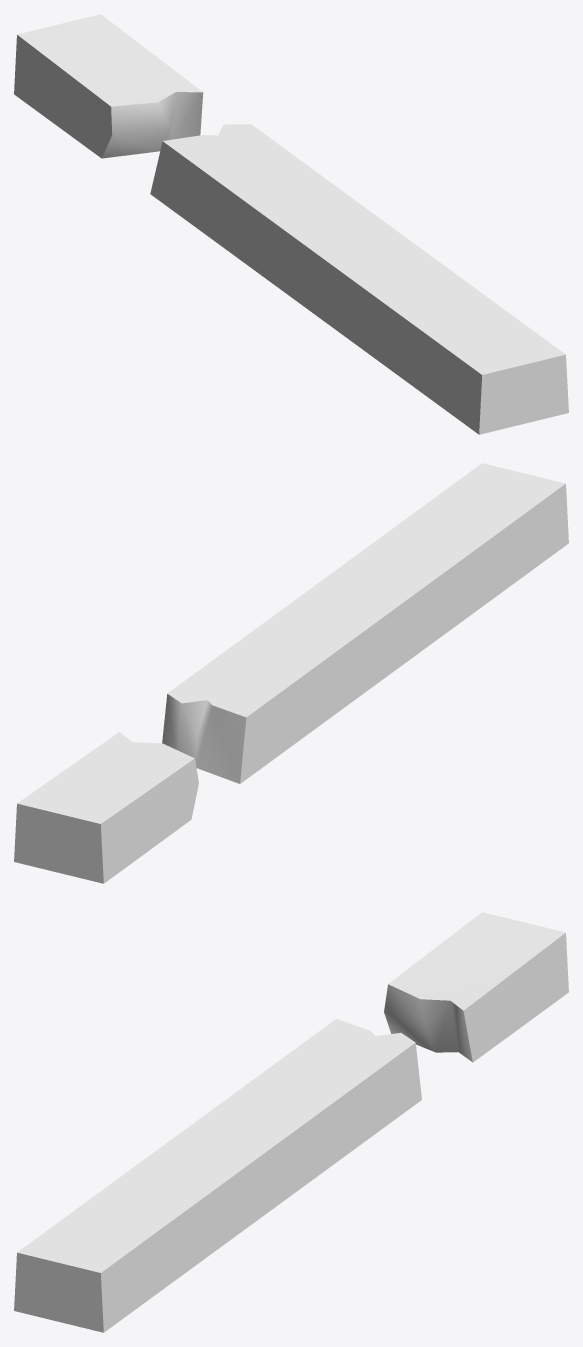
File: map_1002_muban_02.FBX
3 views of the same model, one above another, from view 1: azimuth 30°, elevation 25°; view 2: azimuth 150°, elevation 25°; view 3: azimuth 330°, elevation 25° (orthographic).
Parts seen in each view (by area): view 1: map_1002_muban_02; view 2: map_1002_muban_02; view 3: map_1002_muban_02.
Part boxes in pixels (left/top/right/bottom): map_1002_muban_02: left=14, top=14, right=568, bottom=434; map_1002_muban_02: left=14, top=463, right=568, bottom=883; map_1002_muban_02: left=14, top=912, right=568, bottom=1332.
Size of the model in its own units: 0.3562 by 0.2238 by 3.19.
